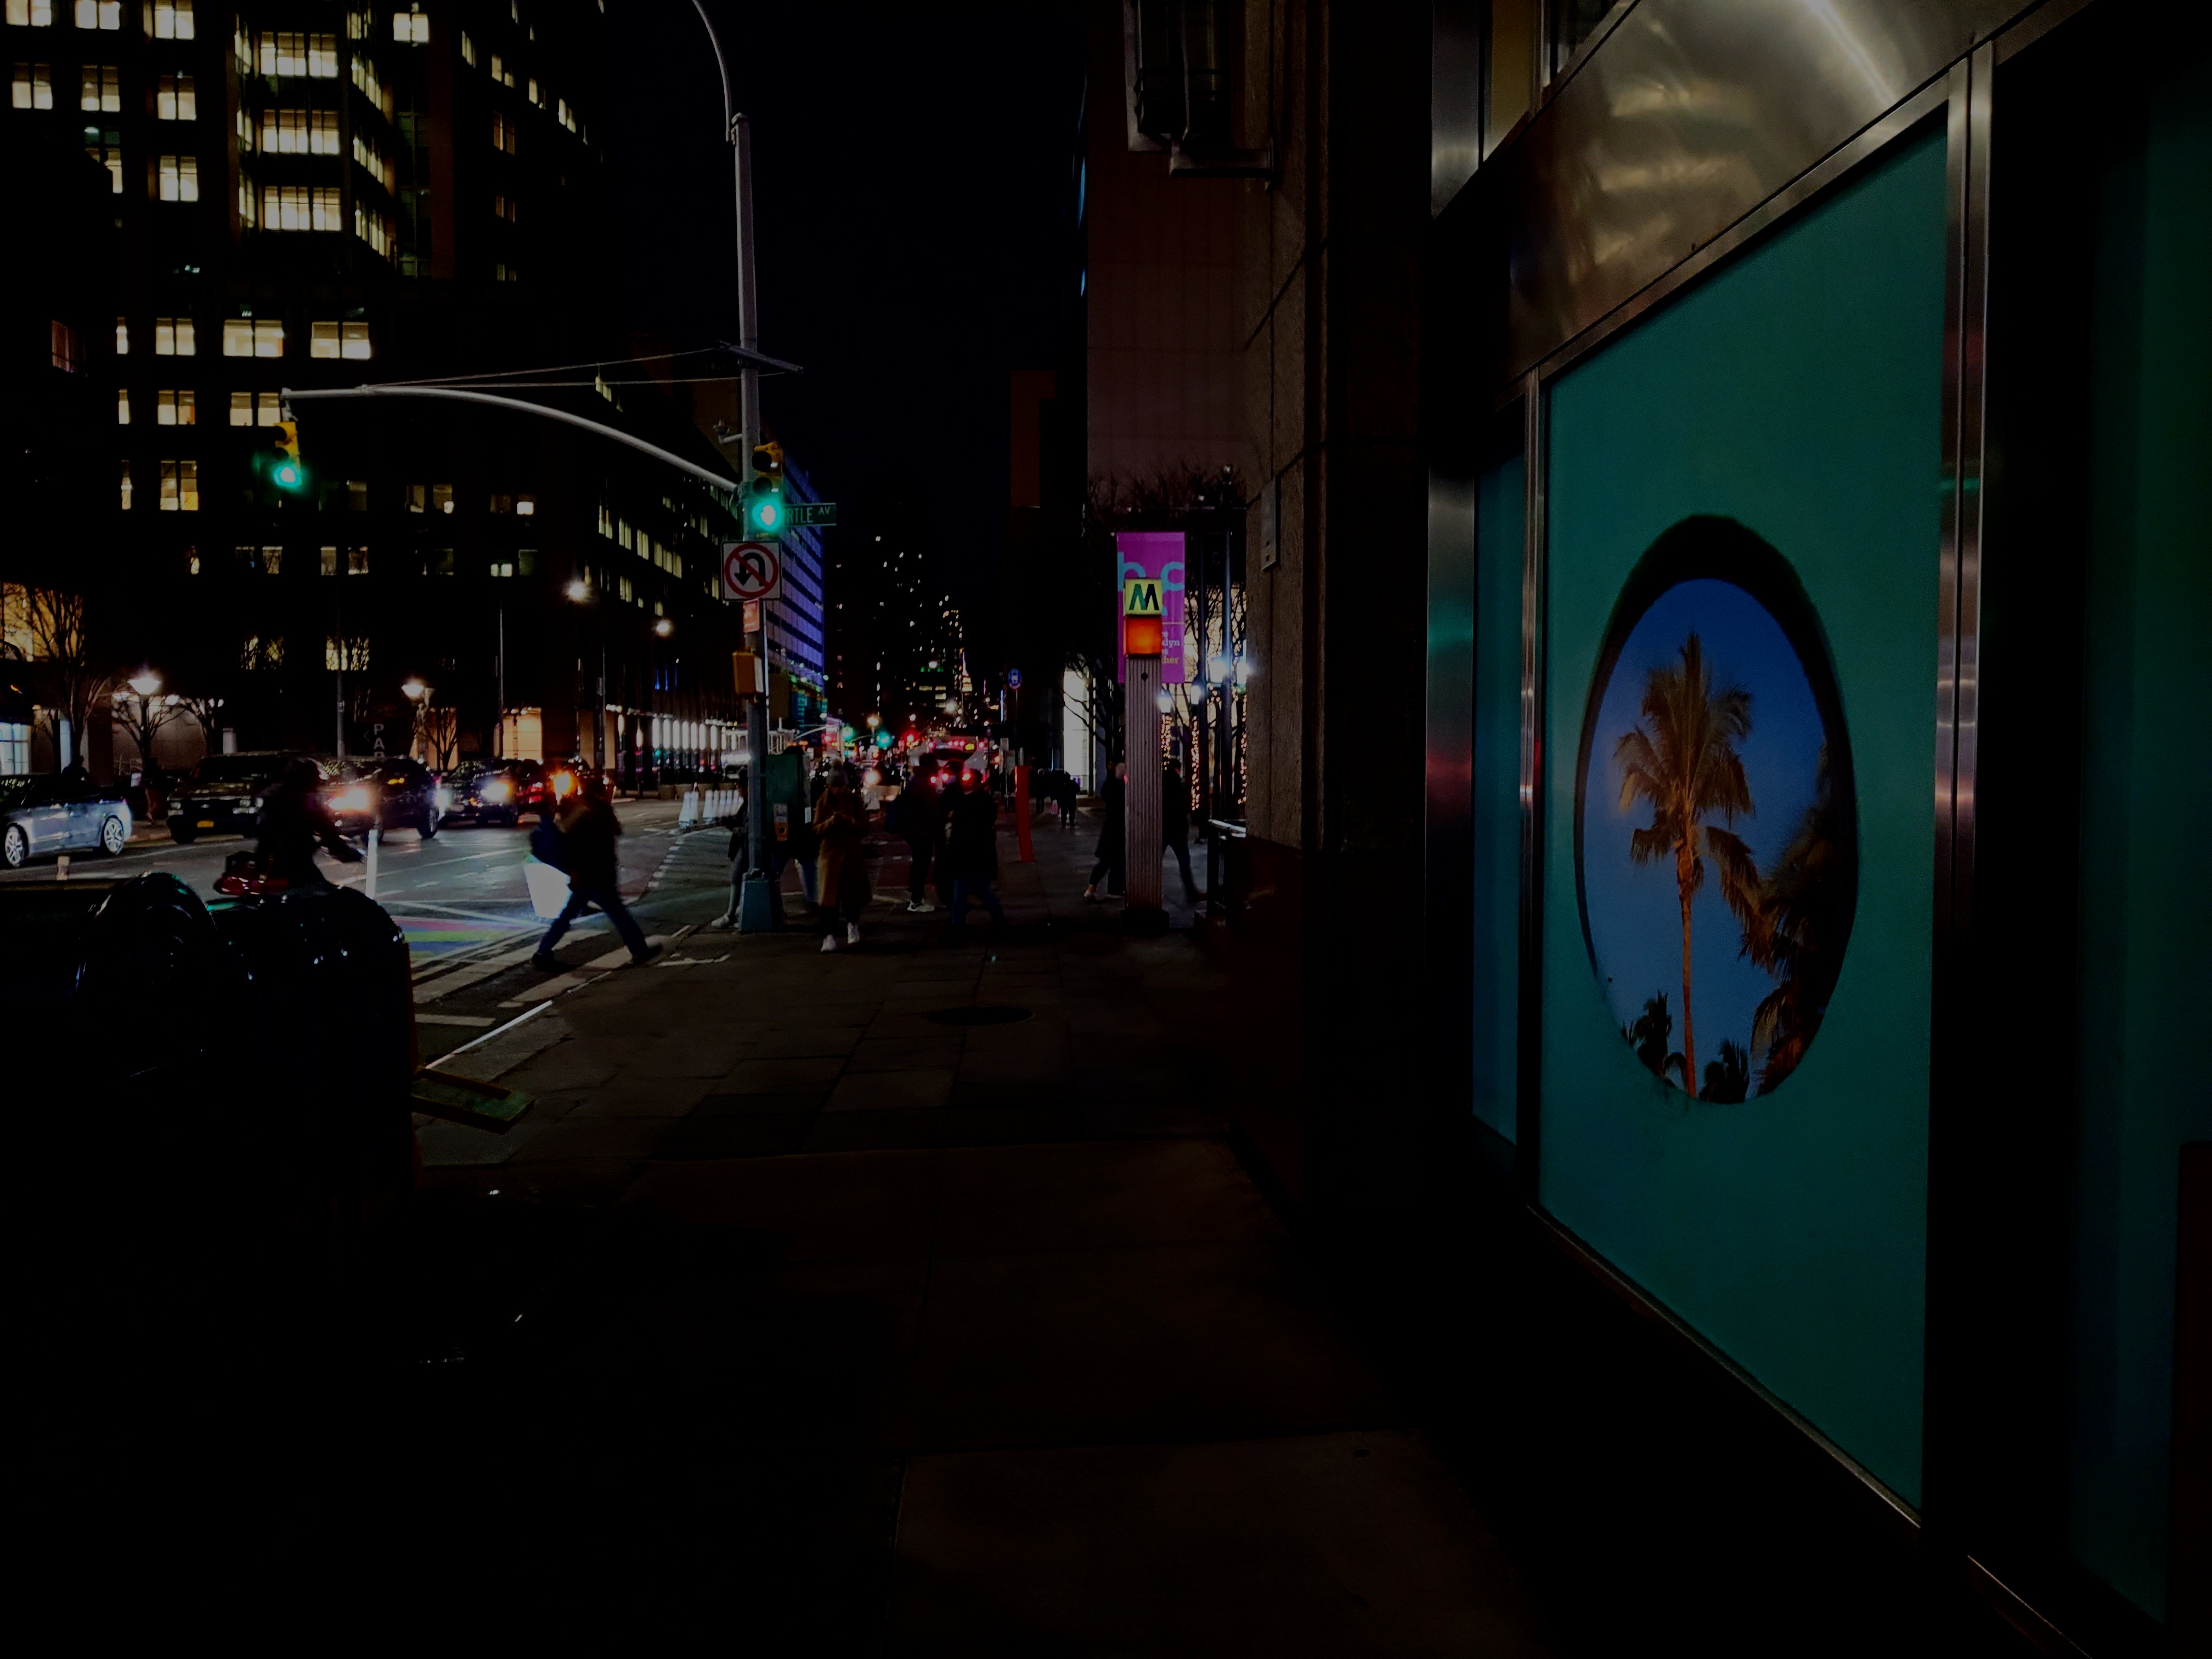car: (1, 774, 142, 866), (324, 757, 439, 843), (168, 753, 264, 844), (435, 761, 556, 828)
person: (530, 771, 666, 968), (255, 759, 368, 888), (811, 761, 867, 956), (887, 753, 939, 915), (953, 768, 1002, 930), (1163, 757, 1205, 907), (712, 764, 748, 934), (1084, 763, 1126, 900), (1052, 772, 1080, 833)
